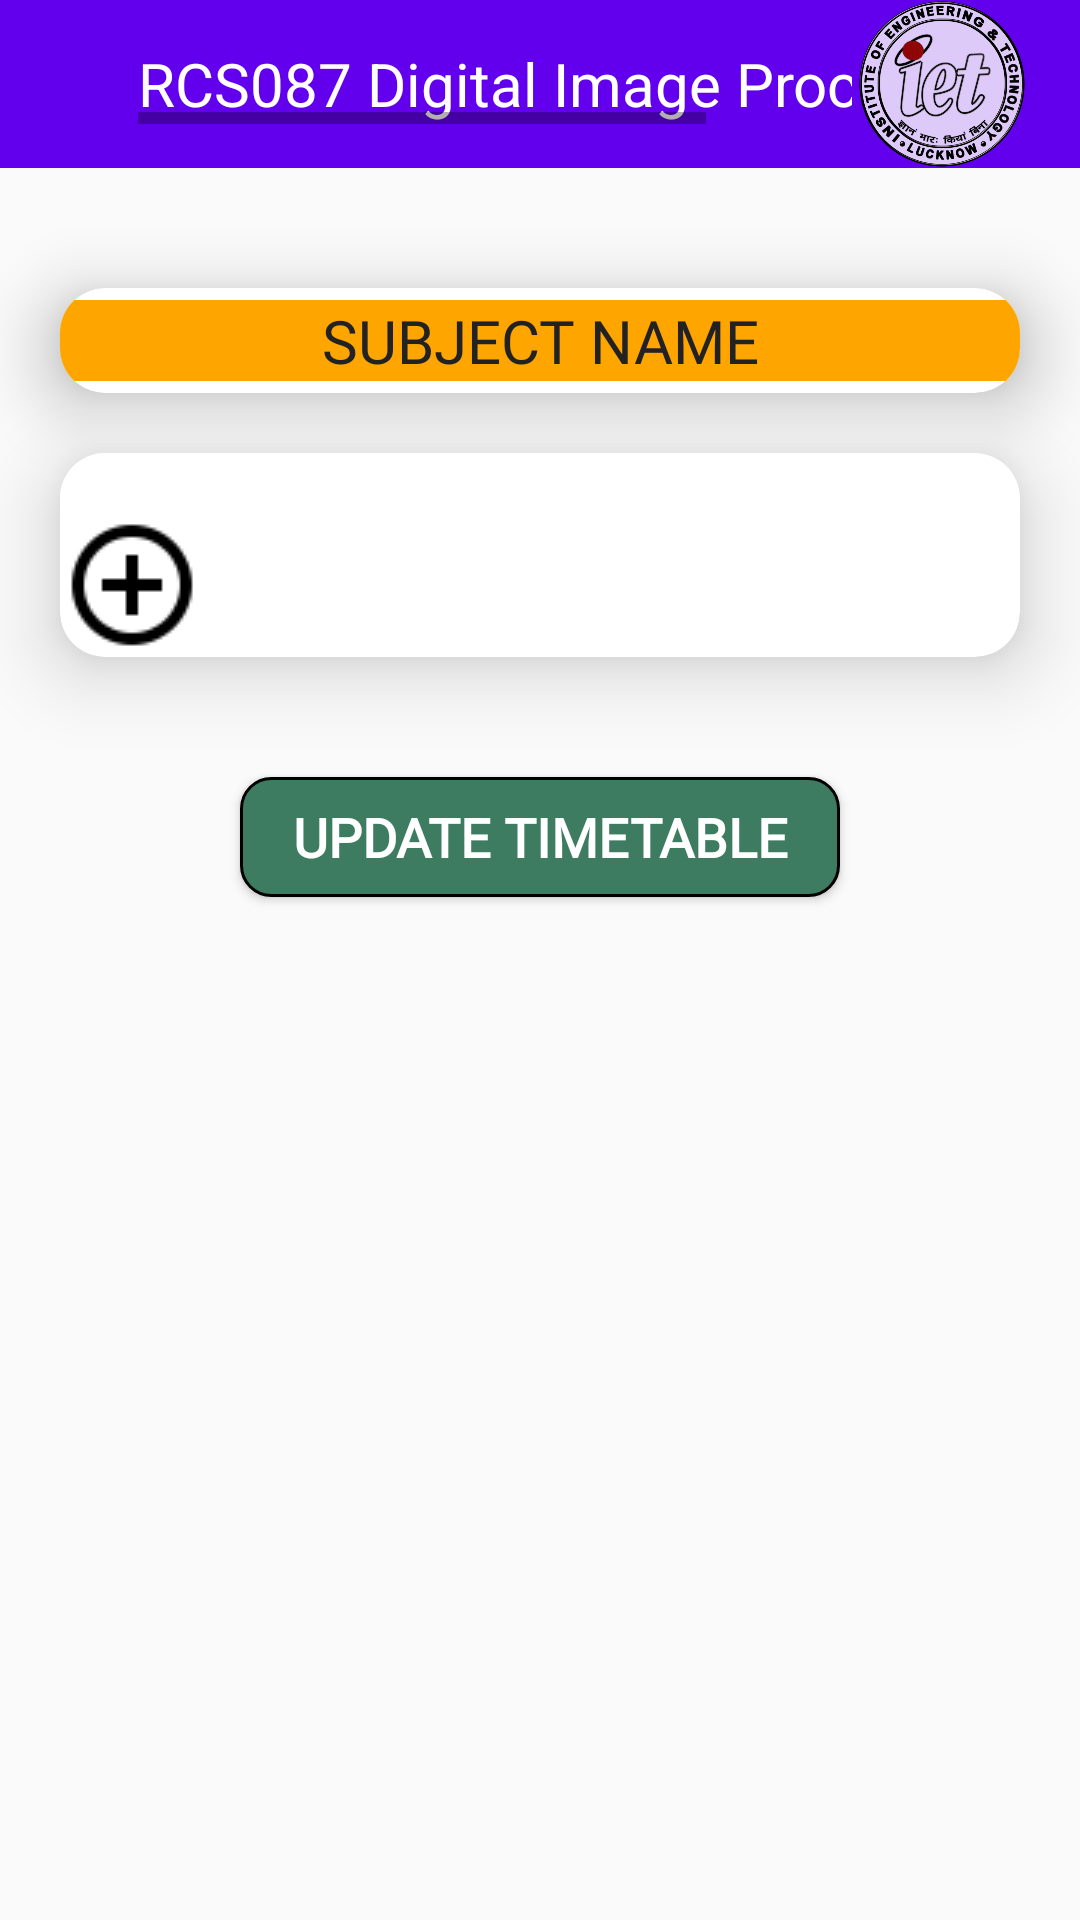

Point at icon controls on the screen. Image size 1080x1920, points as point (x, y).
plus: point (132, 585)
